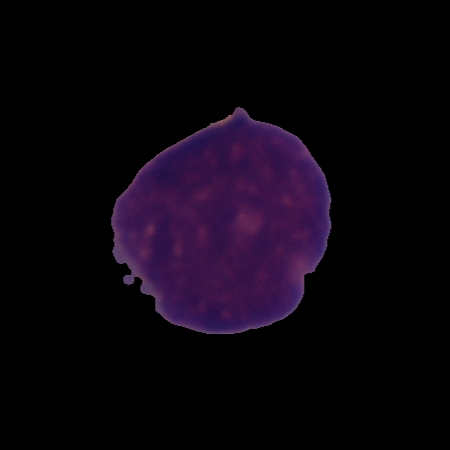ALL: (107, 103, 335, 337)
